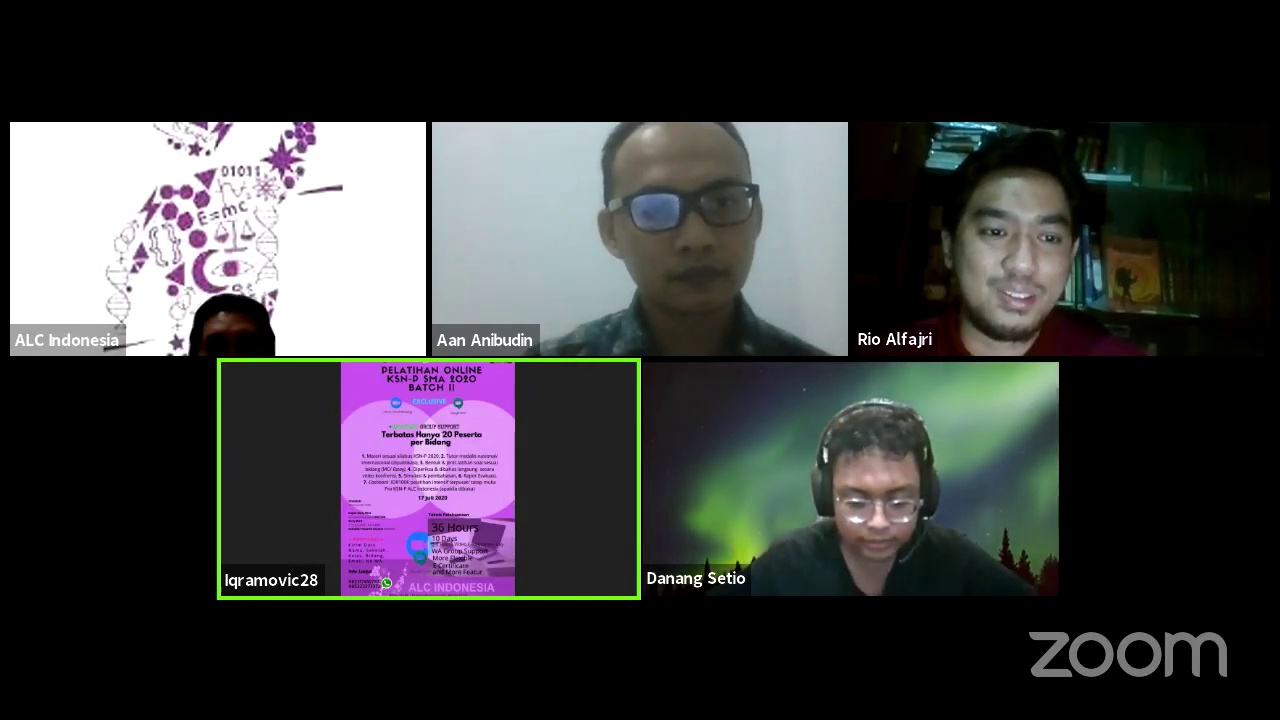Distracted: (795, 414, 952, 565)
Not Distracted: (594, 130, 779, 321), (948, 153, 1086, 338), (175, 296, 285, 353)
